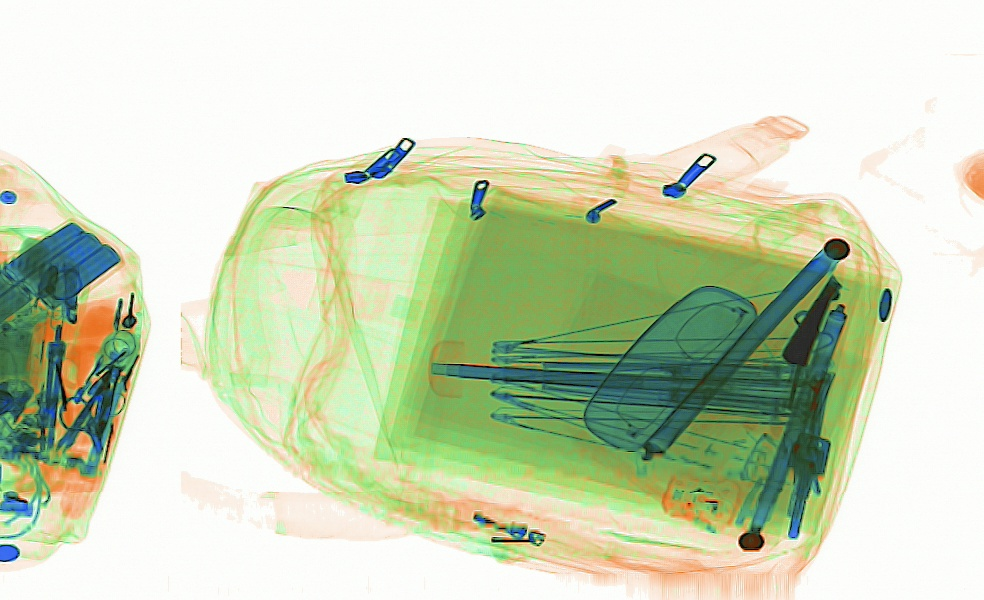powerbank: (0, 214, 124, 339)
